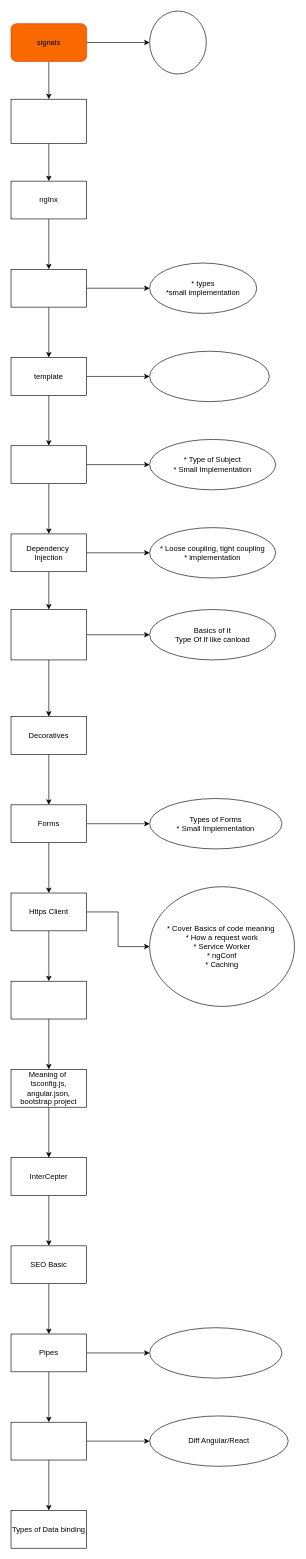
Some shapes in this 306 by 1559 pixel diagram are drawn without their labels. Here are the shapes that lost their labels. From the top down, the box of each, then its label:
(149, 10, 206, 74): small component
(10, 99, 87, 143): component life cycle hooks
(10, 269, 87, 307): directive
(149, 351, 269, 402): * Content projection * Types of content projection
(10, 445, 87, 484): Subject
(10, 609, 87, 660): Routing
(10, 981, 87, 1019): Basics Of Testing
(149, 1327, 282, 1378): Basic Implementation
(10, 1422, 87, 1460): Why Angular Used
